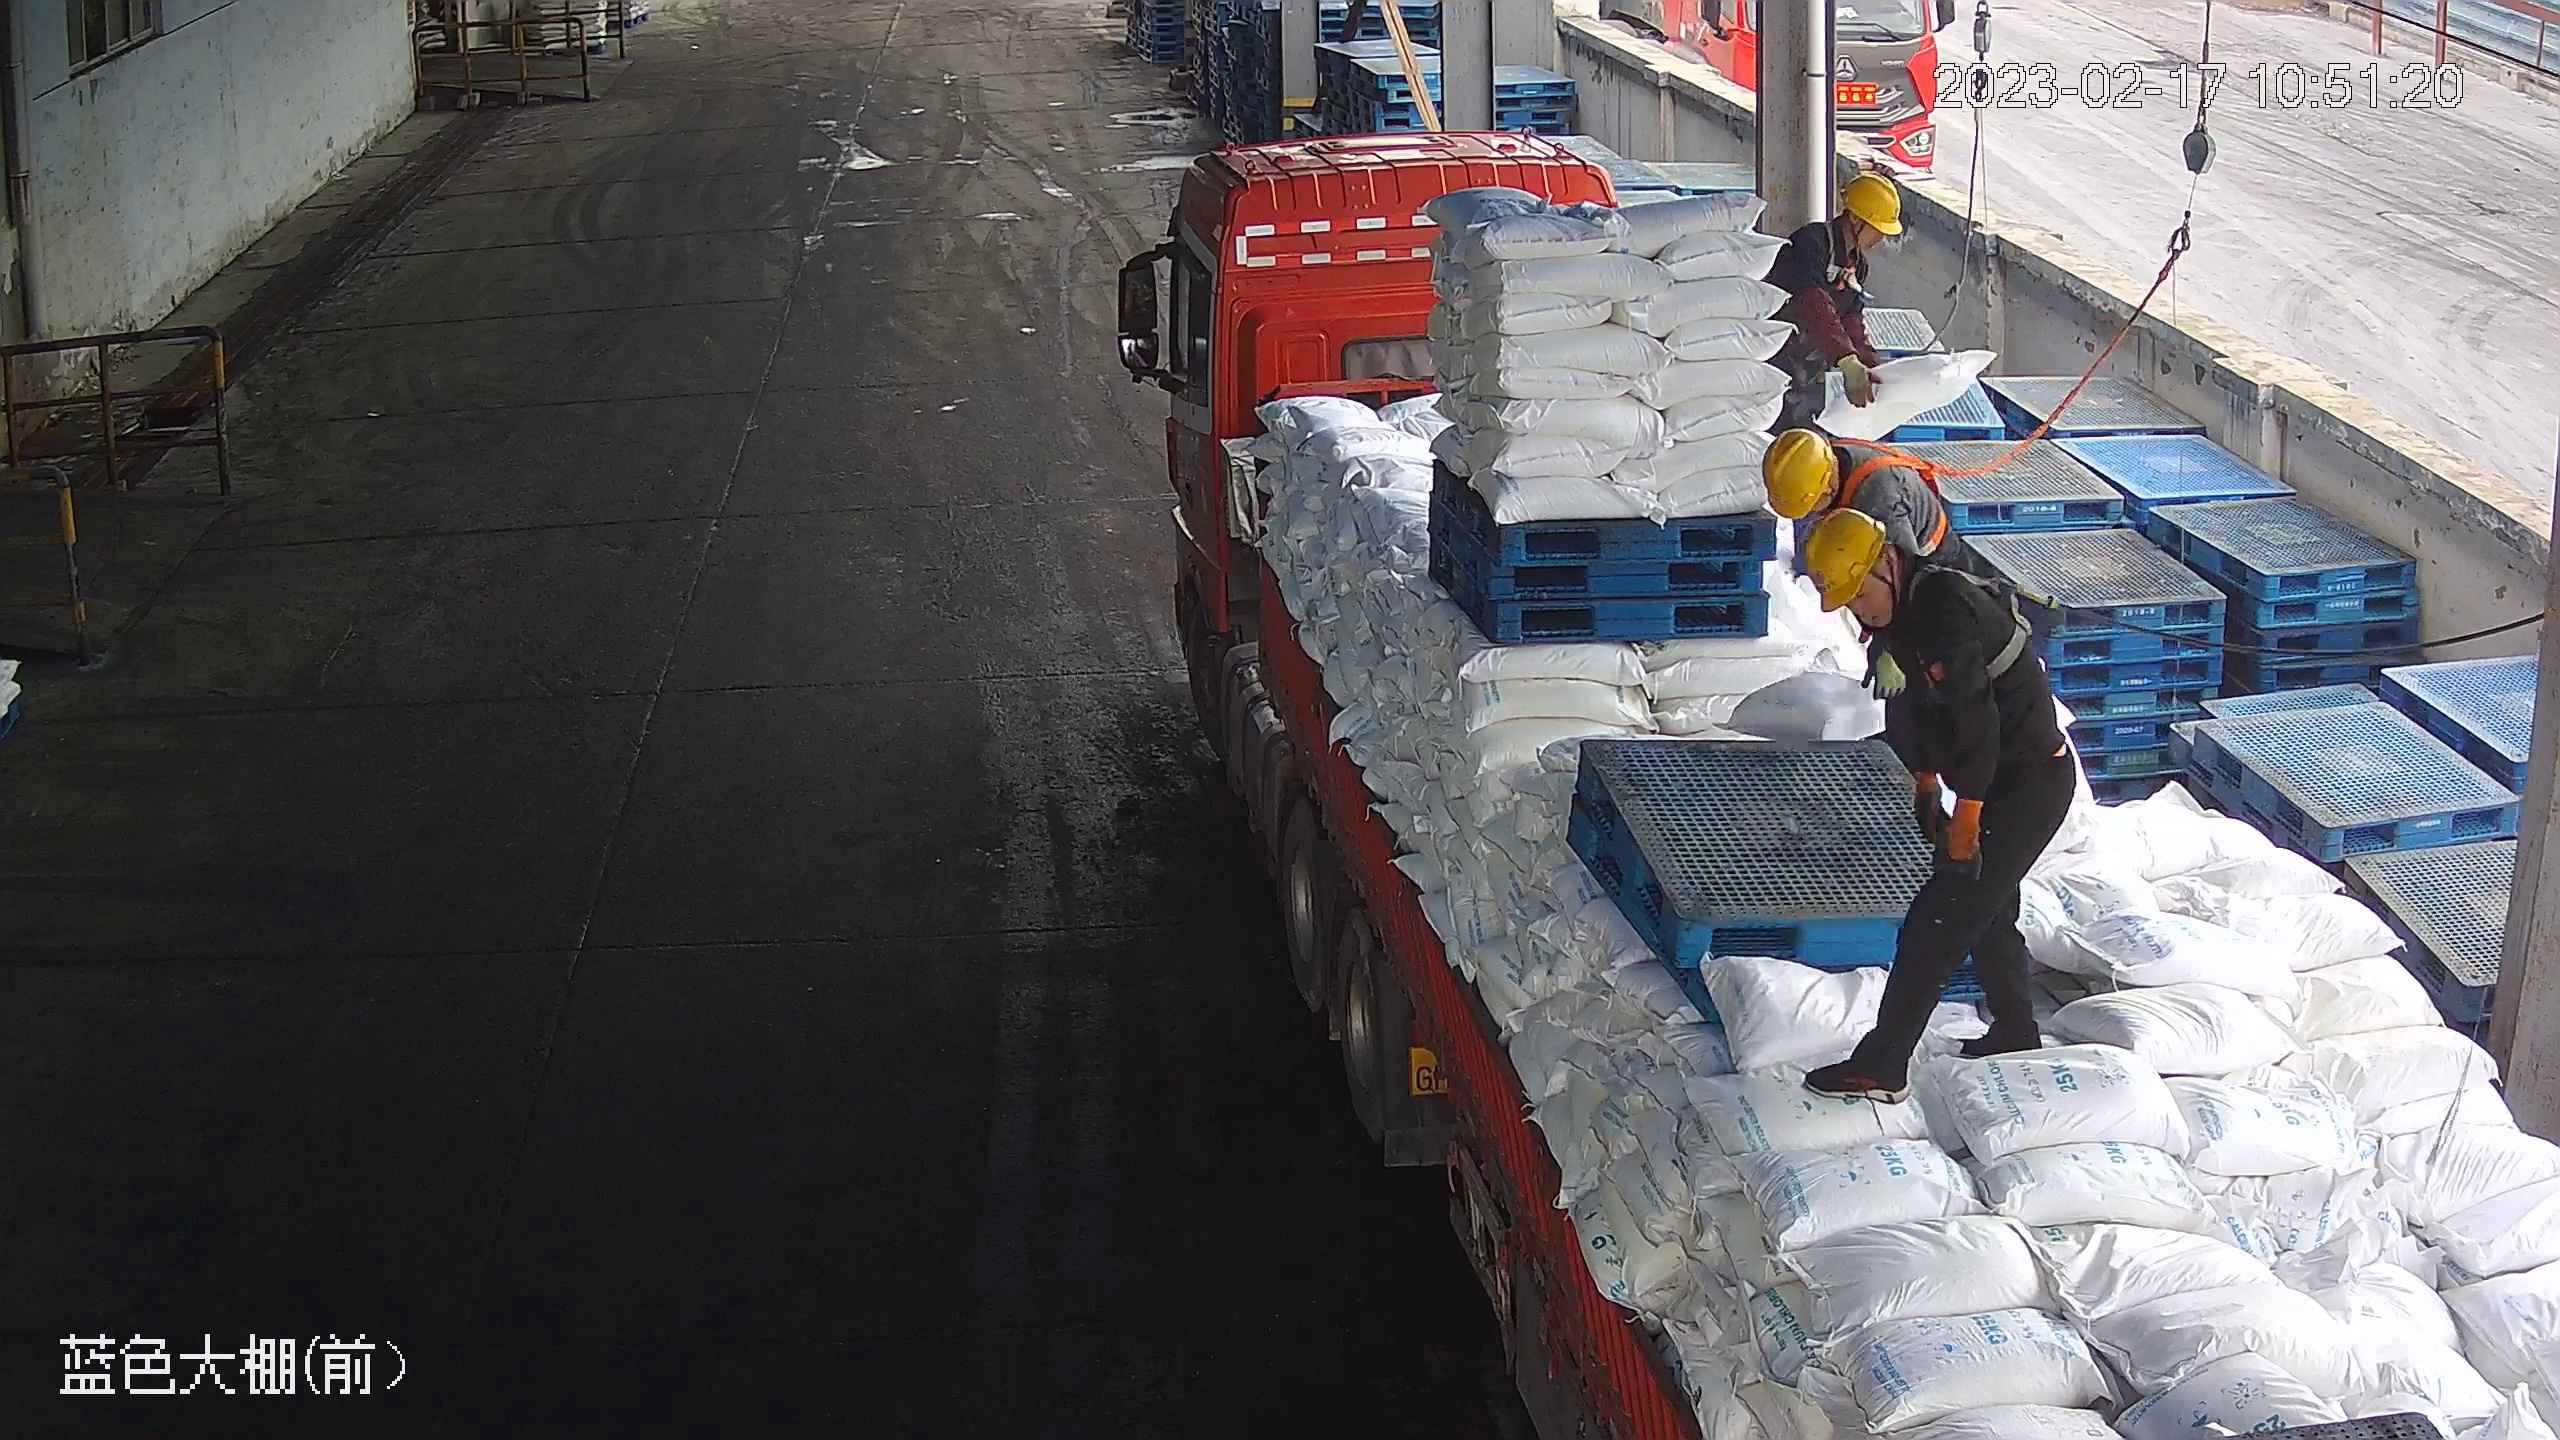belt: (1899, 556, 2038, 692), (1829, 434, 1954, 559), (1812, 212, 1880, 282)
head: (1800, 510, 1987, 654), (1763, 423, 1911, 531), (1779, 172, 1900, 271)
helmet: (1802, 507, 1896, 610), (1761, 425, 1837, 518), (1839, 170, 1903, 236)
people: (1797, 505, 2081, 1102), (1762, 171, 1901, 437)
truck: (1122, 134, 2556, 1439)
